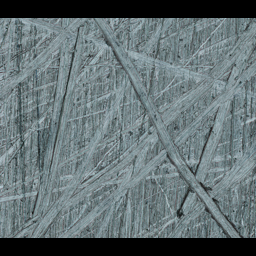d: (2, 18, 254, 237)
